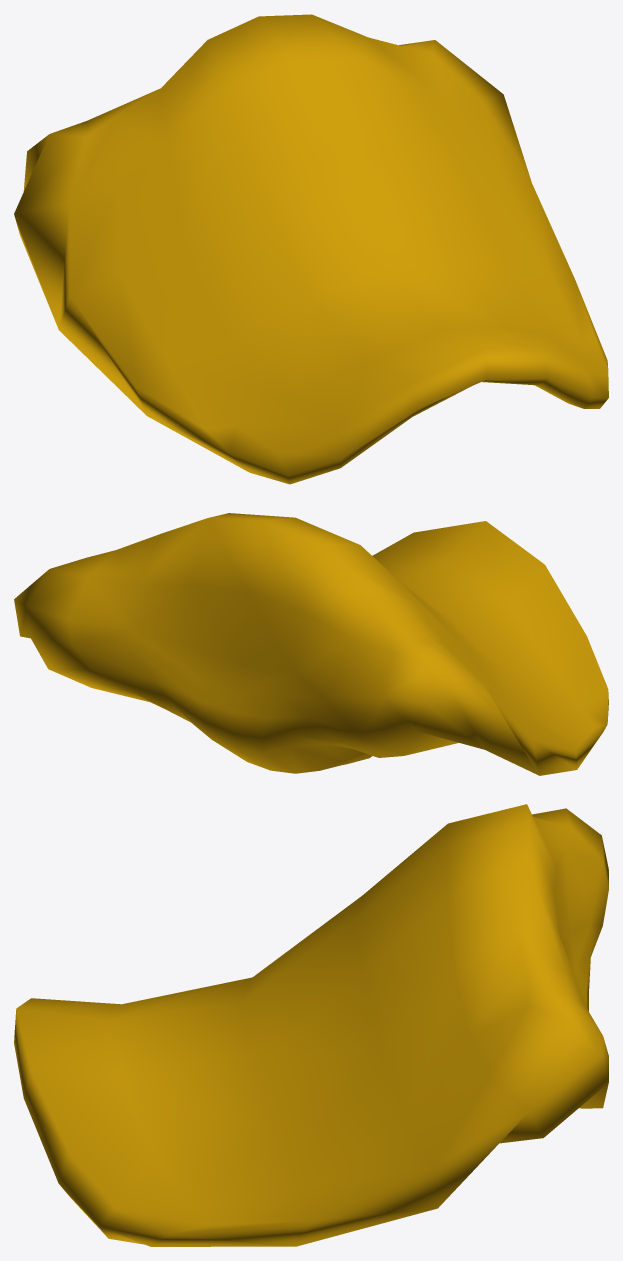
Rendered from duck_bill.fbx.
The picture shows the model from 3 angles, top to bottom: view 1: azimuth 30°, elevation 25°; view 2: azimuth 150°, elevation 25°; view 3: azimuth 270°, elevation 25°; orthographic projection. The views are drawn at different scales.
Parts seen in each view (by area): view 1: duckbill; view 2: duckbill; view 3: duckbill.
Boxes of the visible parts, x1,y1,x2,y2 form: duckbill: (14,14,608,484); duckbill: (14,513,608,775); duckbill: (14,804,608,1246).
Bounding box in the file's own units: 30.42 × 17.53 × 28.34.
